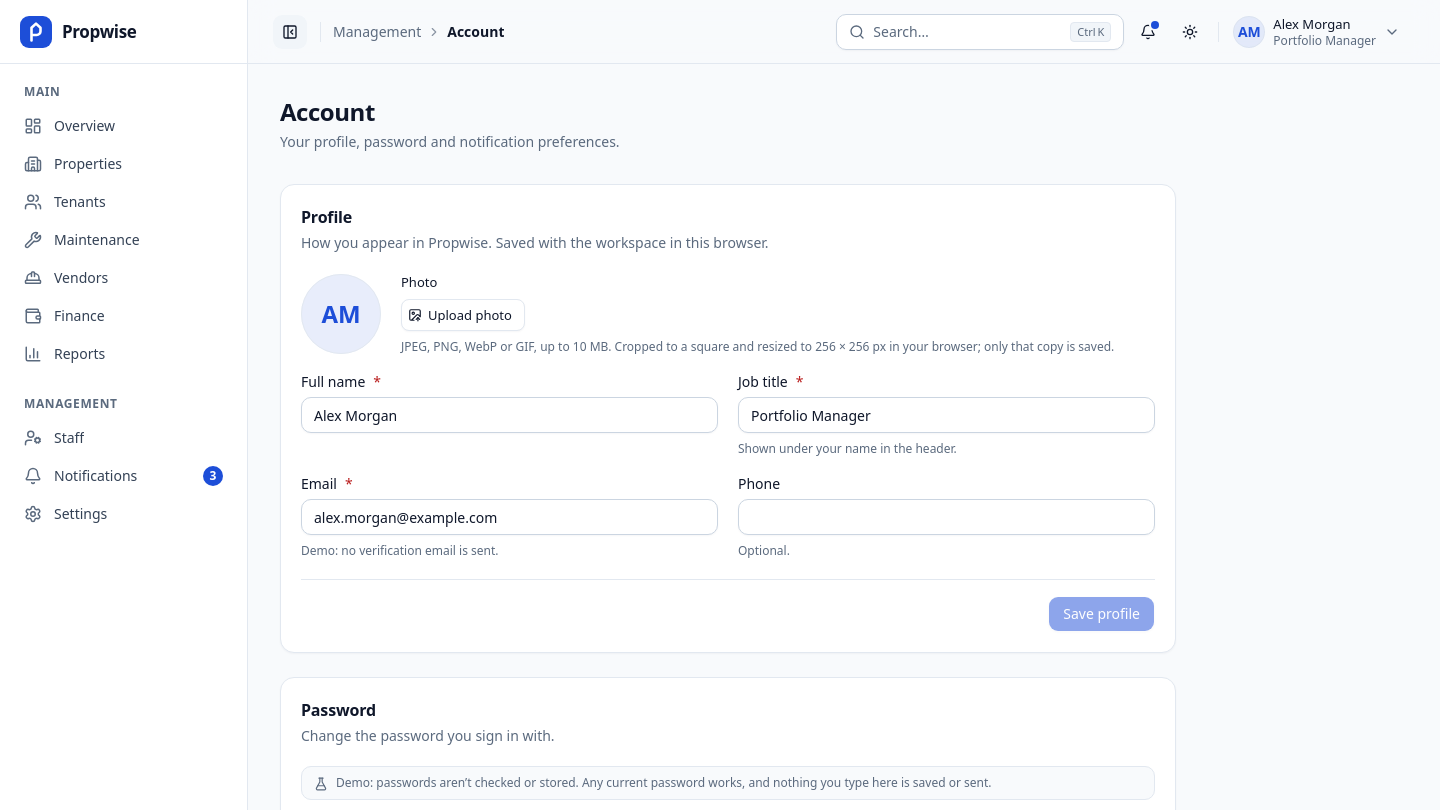
it: Account page › shows field errors and saves nothing while the profile is invalid
This screenshot has width=1440, height=810.
Clear the field labelled "Full name *": (510, 415) [301,397,718,433]
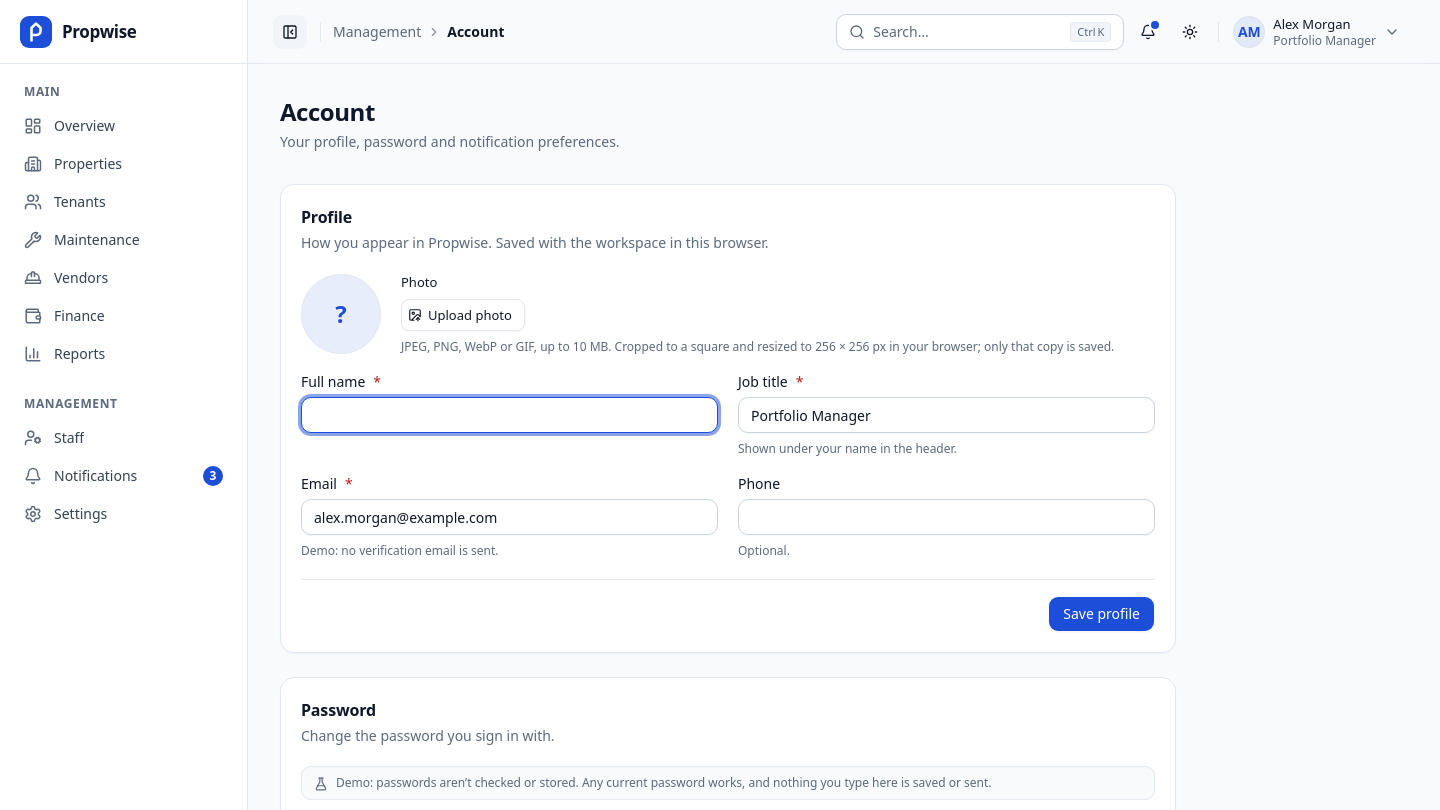
Replace the text in the field labelled "Email *" with "sam@": (510, 517) [301,499,718,535]
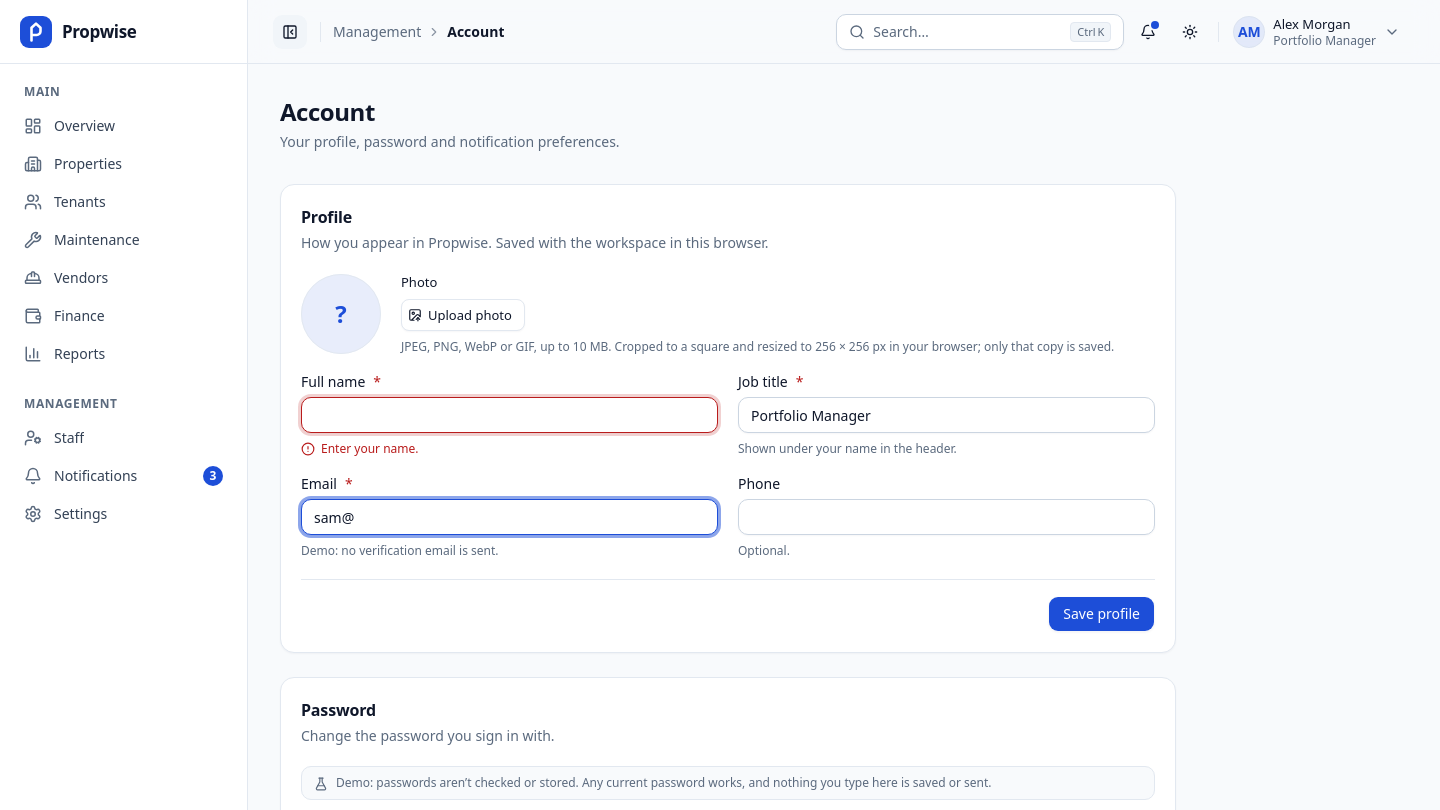
In the field labelled "Phone": (946, 517) [738,499,1155,535], type "call me"
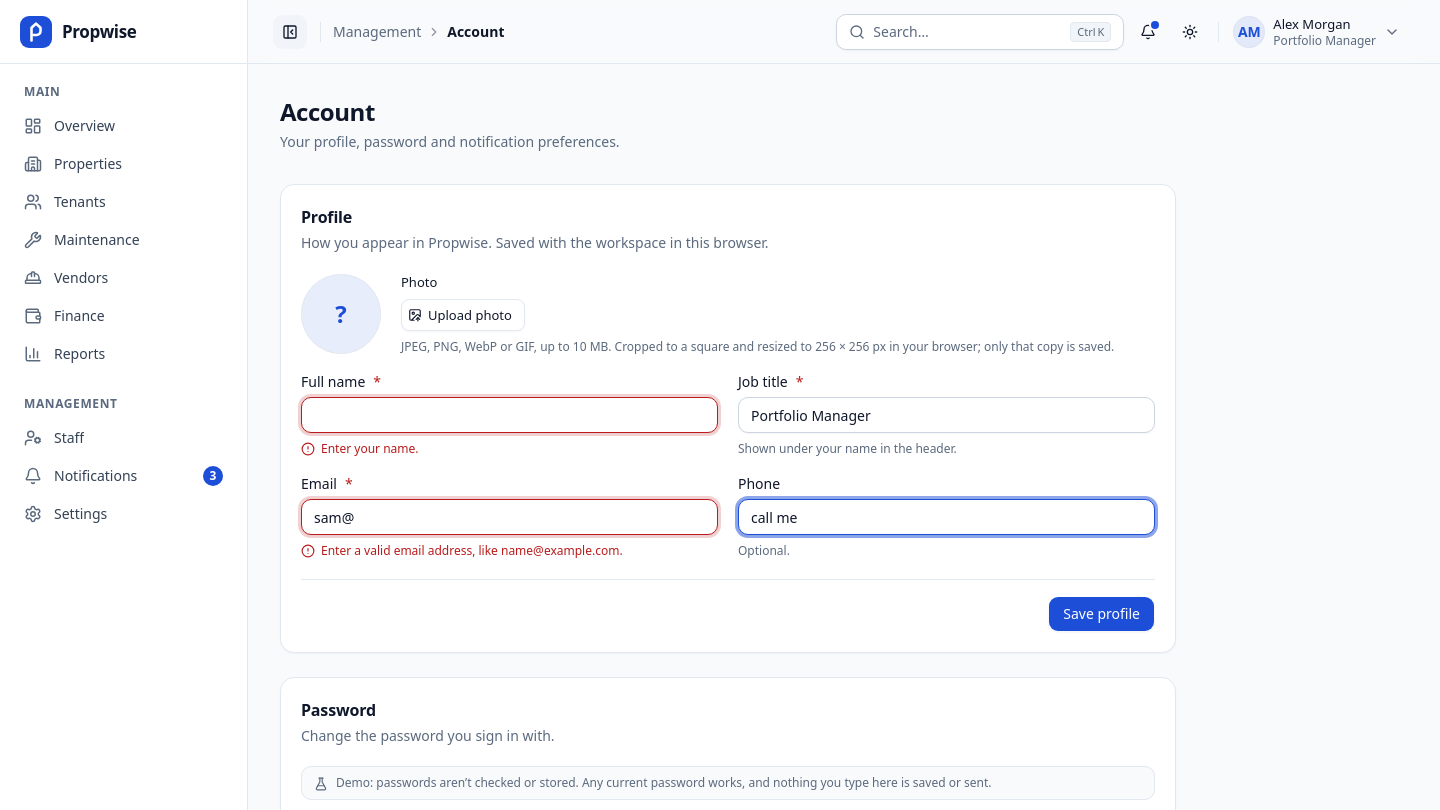
Click the button "Save profile": (1102, 614) [1048,596,1155,632]
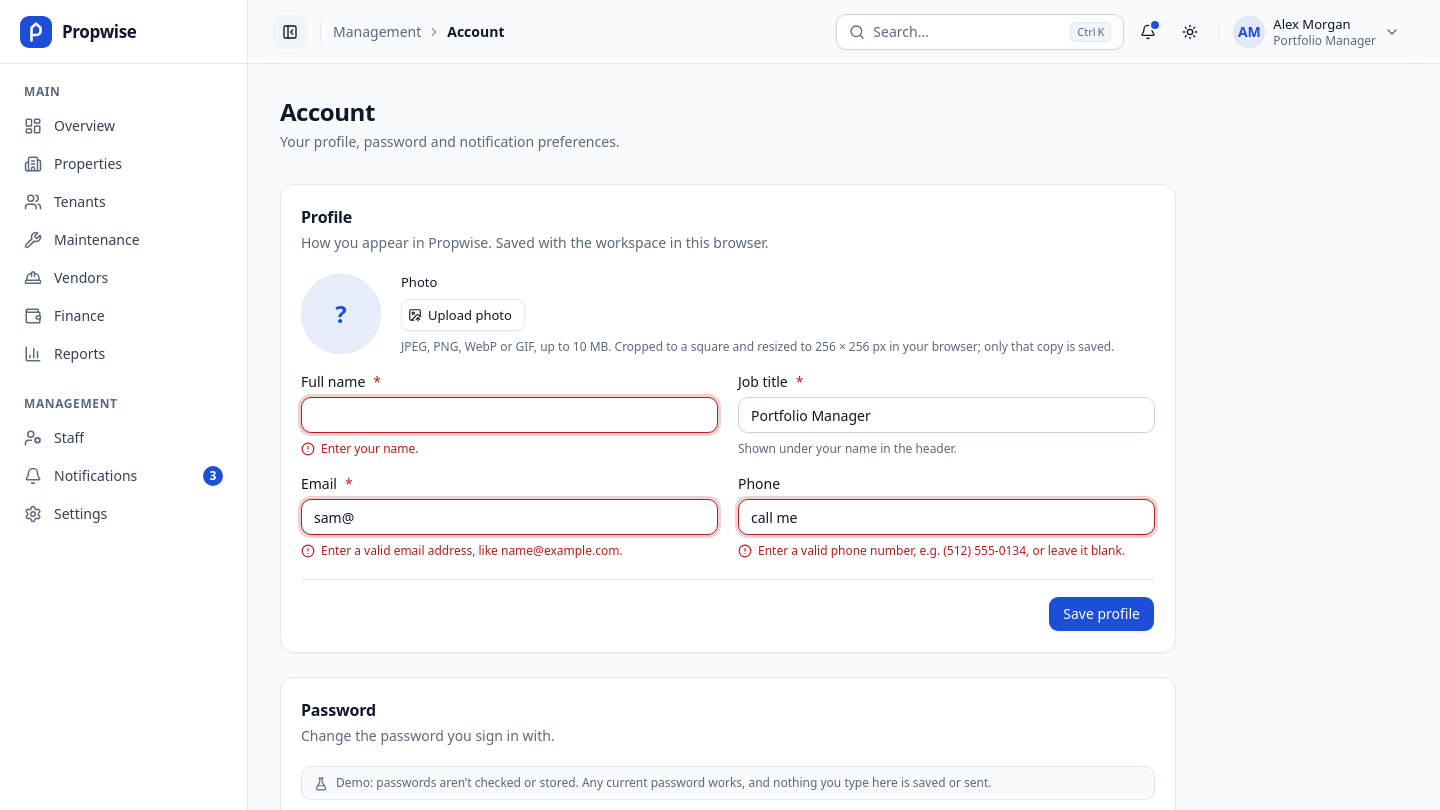
Expected: the text "Enter your name." is shown, [301,440,418,457]
Expected: the text "Enter a valid email address, like name@example.com." is shown, [301,542,623,559]
Expected: the text "Enter a valid phone number" is shown, [758,542,1125,559]
